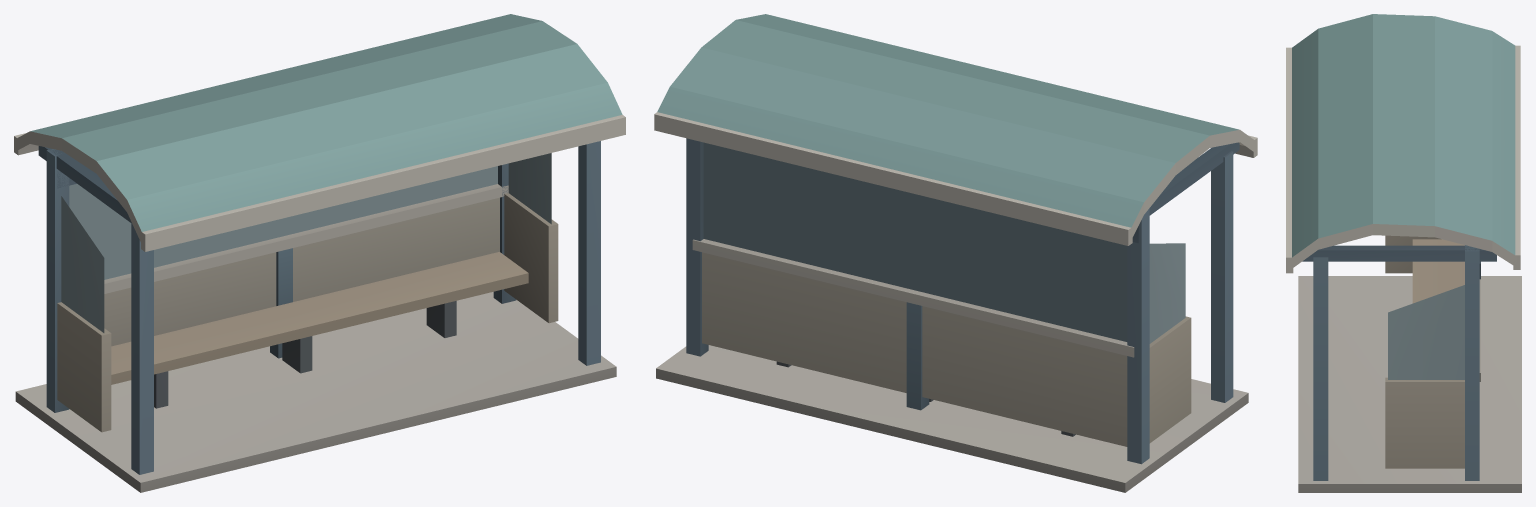
File: shelter.lod1.glb
3 views of the same model, side by side, from view 1: azimuth 30°, elevation 25°; view 2: azimuth 150°, elevation 25°; view 3: azimuth 270°, elevation 25° (orthographic). The views are drawn at different scales.
Size of the model in its own units: 4 by 2.4 by 1.9.
